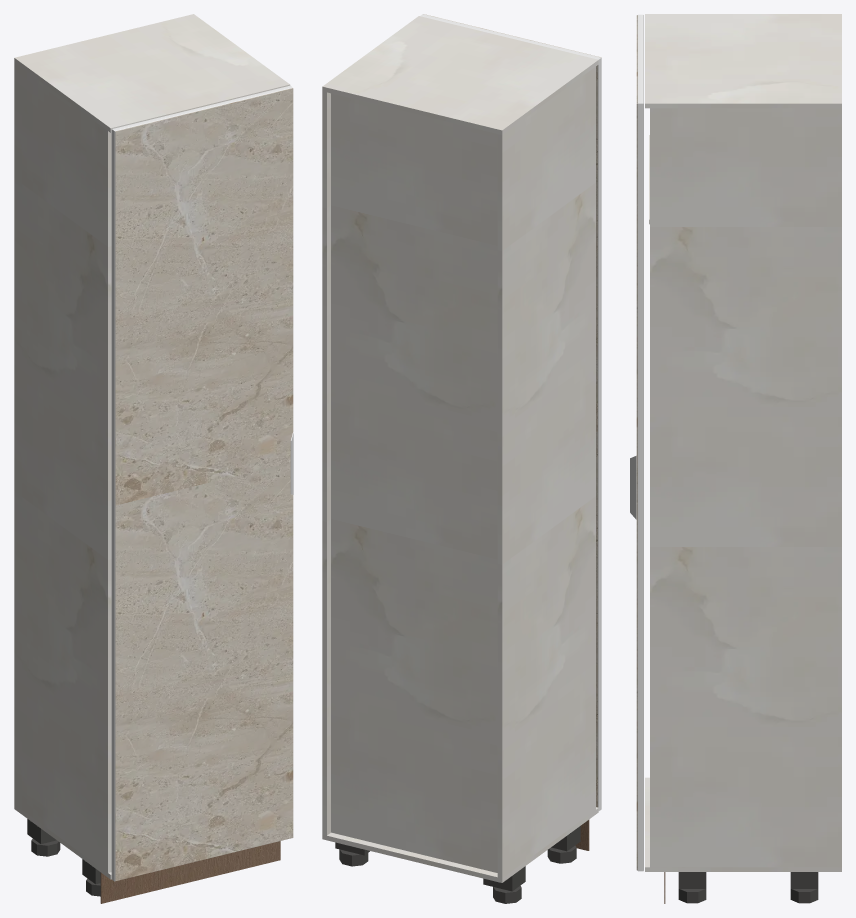
The picture shows the model from 3 angles, left to right: view 1: azimuth 30°, elevation 25°; view 2: azimuth 150°, elevation 25°; view 3: azimuth 270°, elevation 25°; orthographic projection. The views are drawn at different scales.
Size of what is drawn, in the model's own units: 0.6 by 2.5 by 0.5999.
6 materials, 3 textured.
